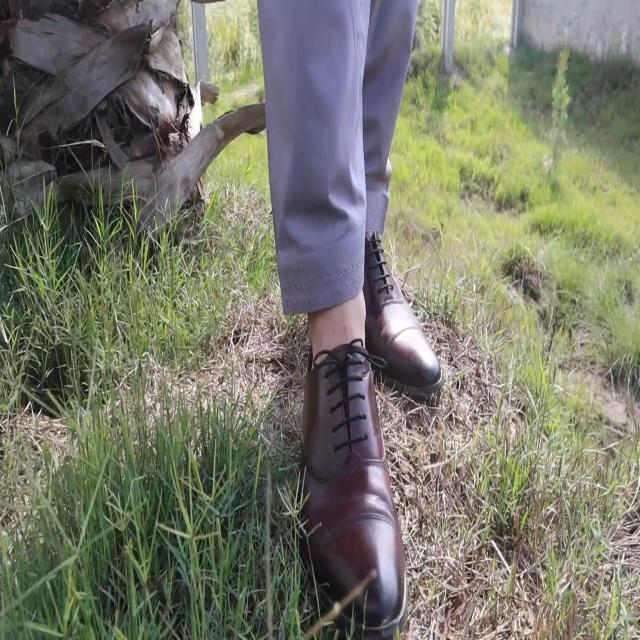dress: (256, 0, 421, 329)
